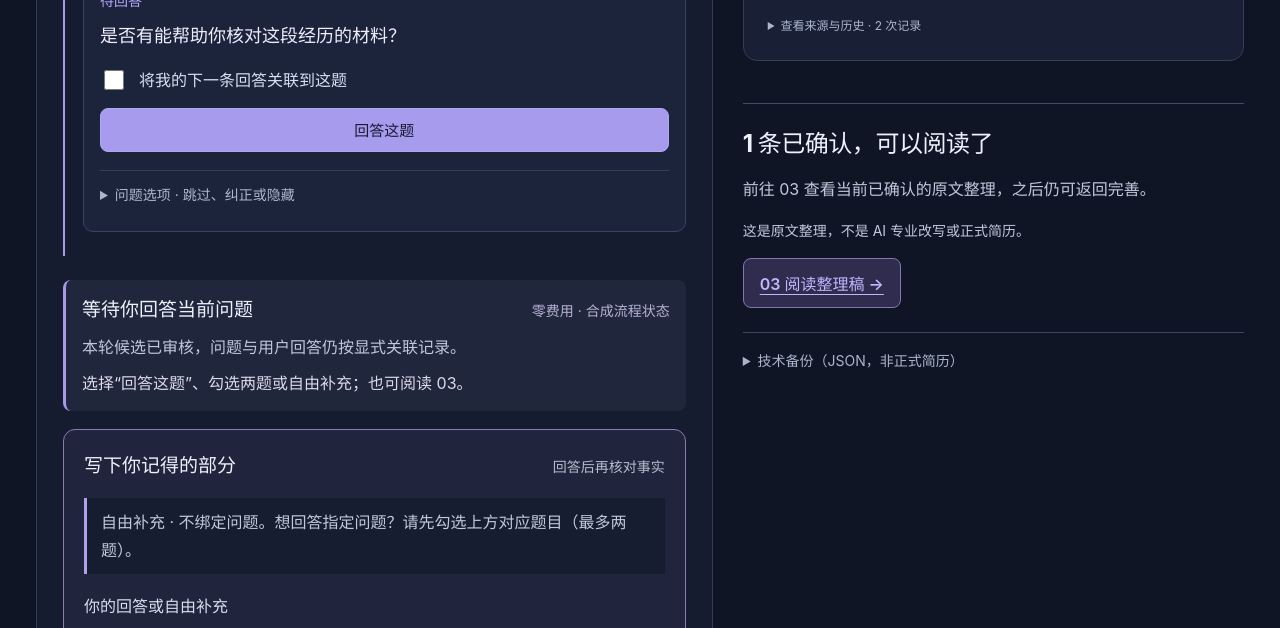
clears every previous v1 surface at workspace / export refusal
This screenshot has width=1280, height=628.
(page scrolled)
Expected: the heading "1 条已确认，可以阅读了" is shown, [743, 129, 993, 158]
Click the heading "技术备份（JSON，非正式简历）". click: [861, 360]
box: [758, 352, 964, 369]
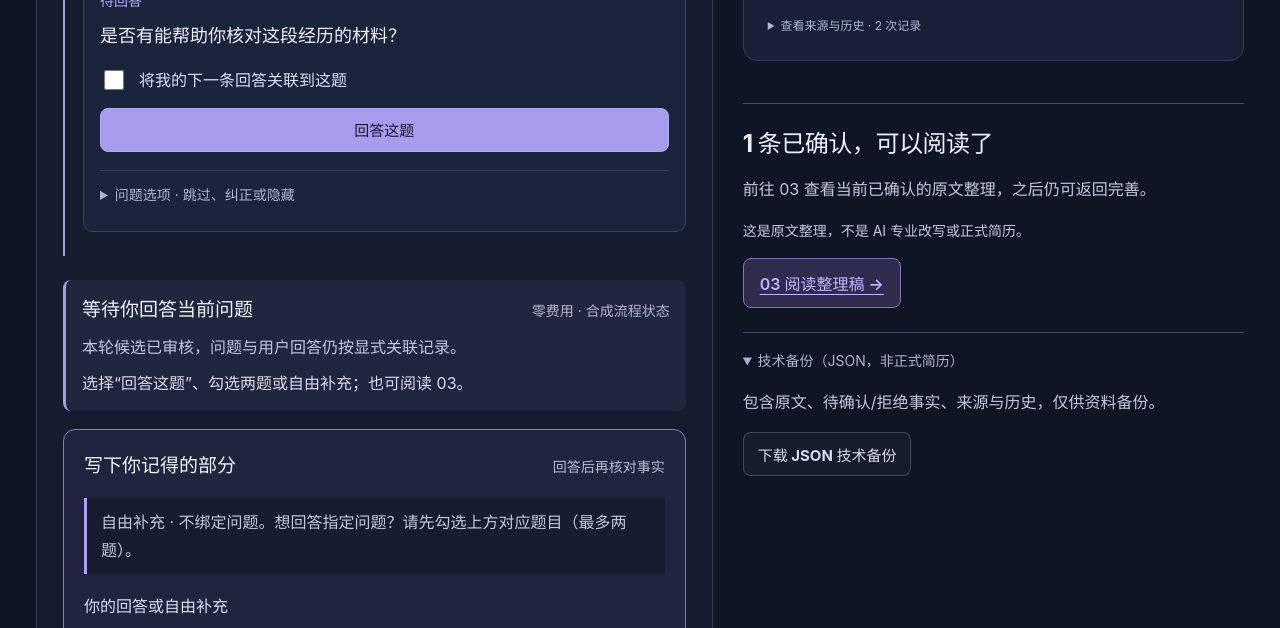
Click the button "下载 JSON 技术备份". click: [827, 454]
box: [743, 432, 911, 476]
(page scrolled)
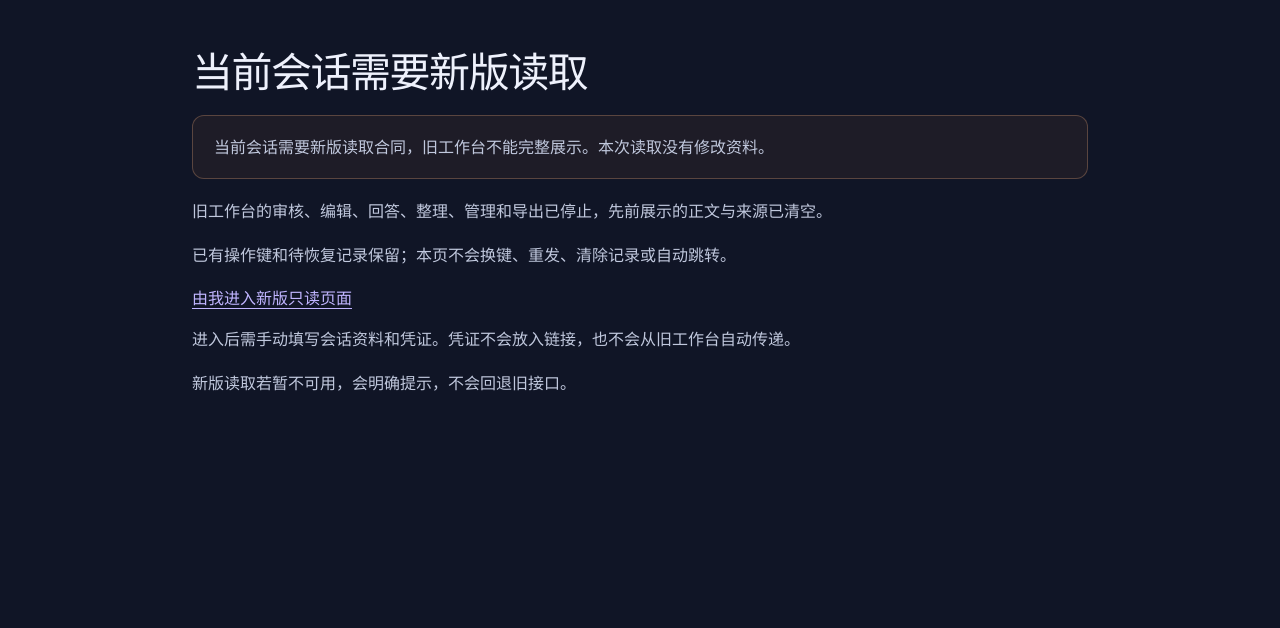
Expected: the heading "当前会话需要新版读取" is shown, [192, 47, 587, 97]
Expected: the element that starts with "当前会话需要新版读取" is shown, [160, 0, 1120, 461]
Expected: the message shows "本次读取没有修改资料", [214, 137, 774, 157]
